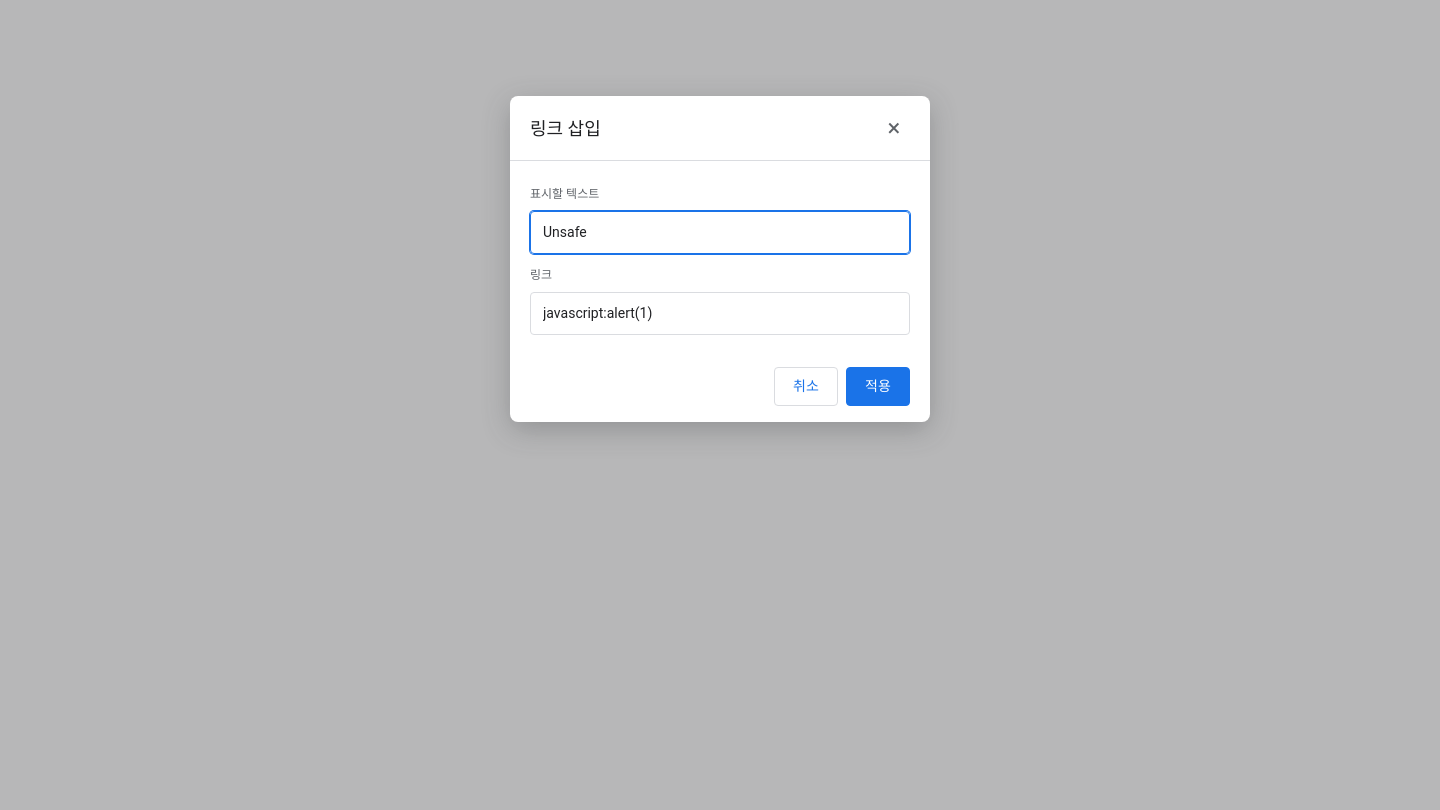
Test: LinkDialog › blocks unsafe schemes and reports the validation error
This screenshot has width=1440, height=810.
Click the button "적용".
click(878, 386)  # box [846, 367, 910, 406]
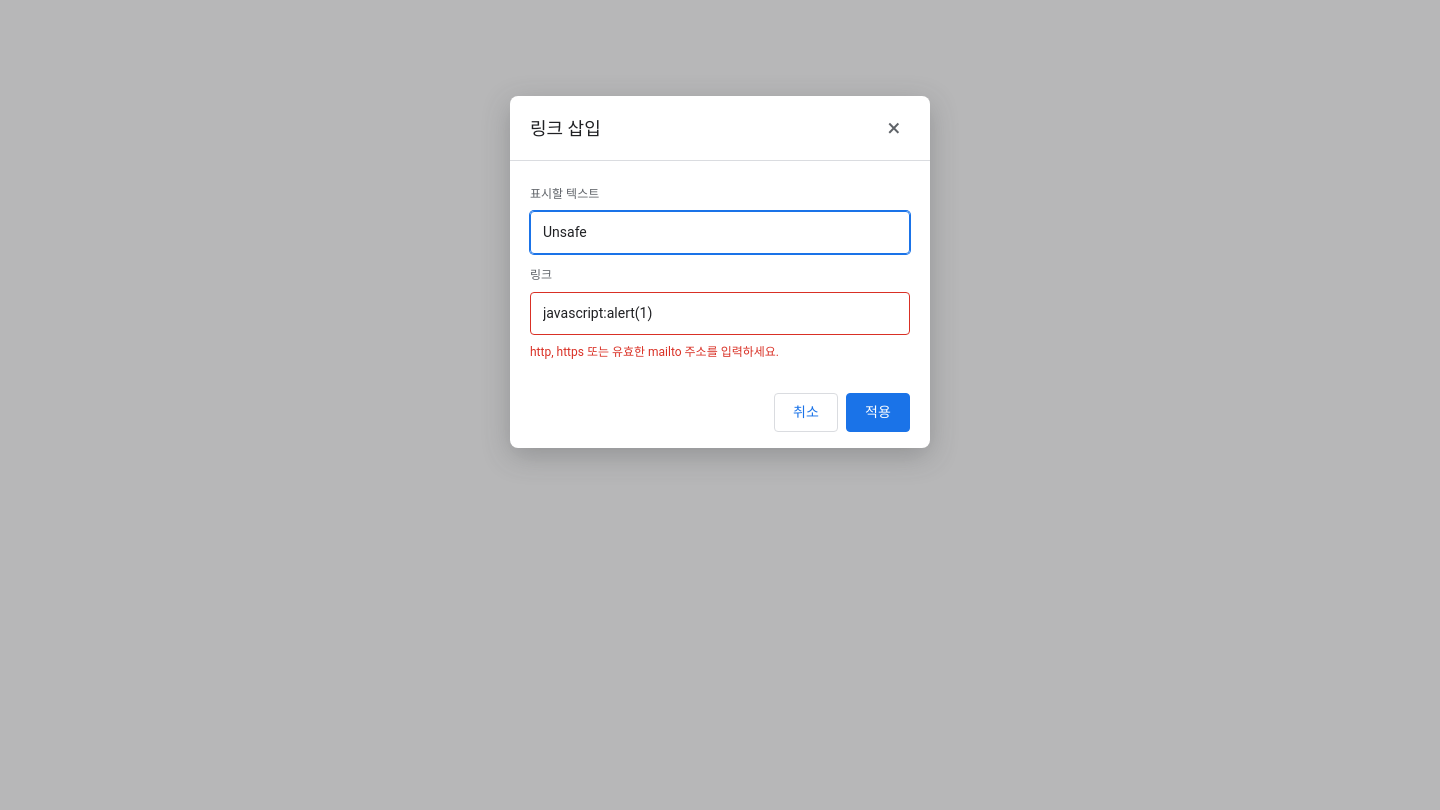
Now the message shows "http, https 또는 유효한 mailto", box [530, 345, 779, 359]
